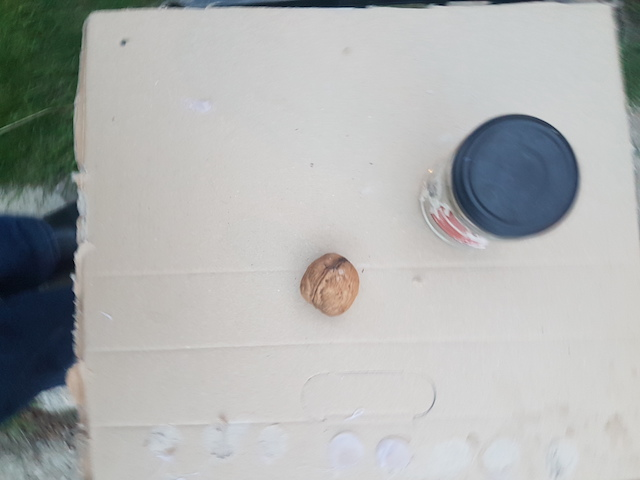nut: (299, 246, 367, 319)
recipient: (455, 113, 581, 238)
